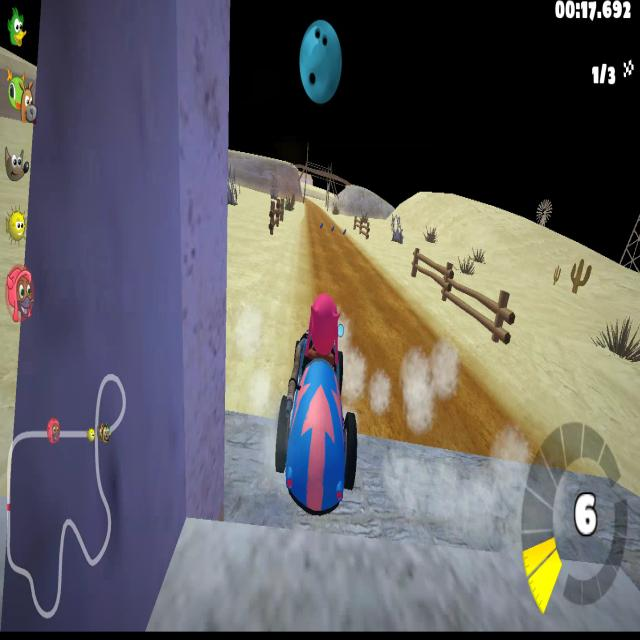player_kart: (268, 298, 359, 508)
track: (421, 384, 527, 462), (362, 298, 419, 438), (422, 326, 468, 386), (322, 237, 360, 296), (361, 257, 398, 302), (309, 218, 319, 292), (306, 195, 321, 218)
